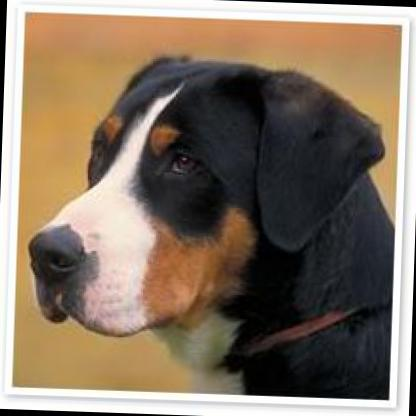Greater_Swiss_Mountain_dog: (20, 47, 400, 396)
